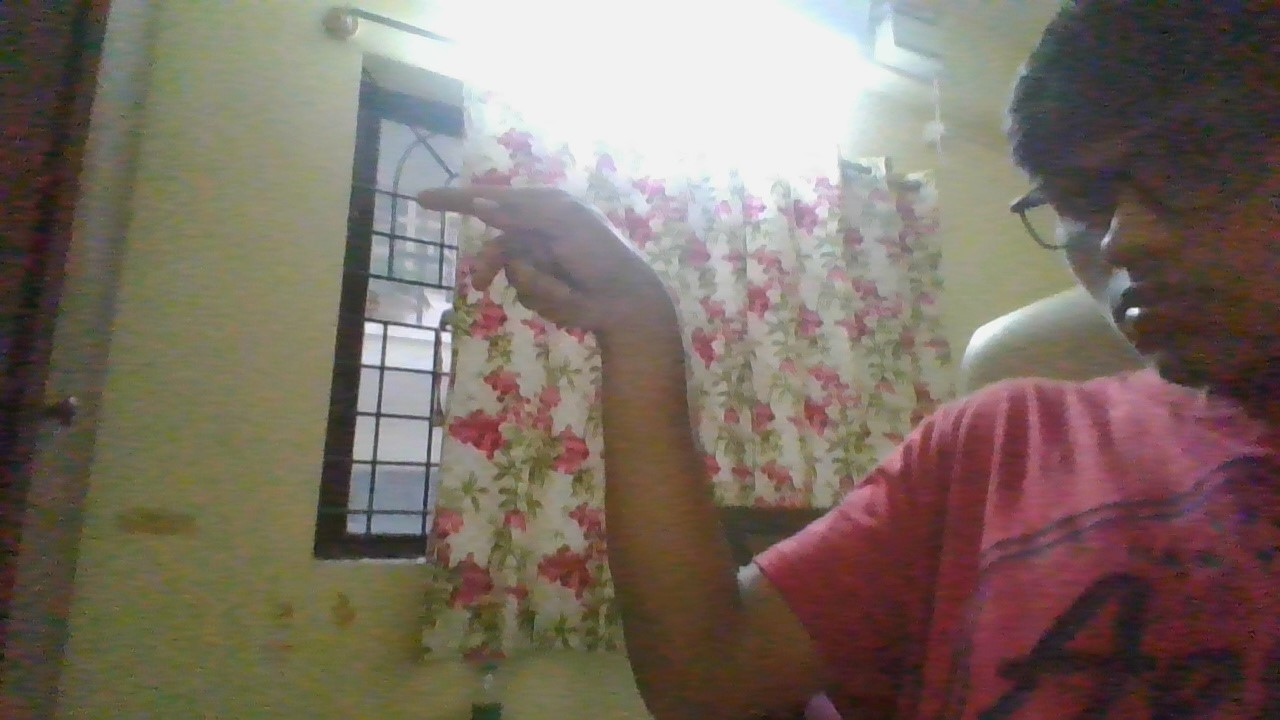p: (412, 182, 681, 334)
